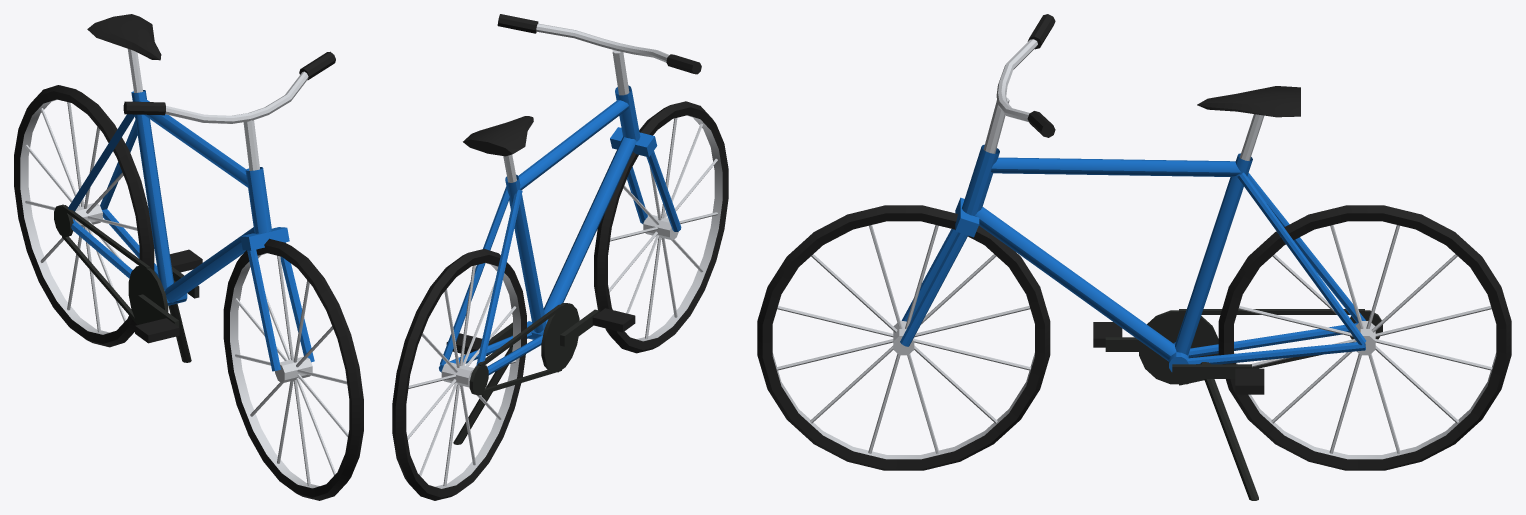
Rendered from bicicleta.glb.
3 renders of one model, left to right at view 1: azimuth 30°, elevation 25°; view 2: azimuth 150°, elevation 25°; view 3: azimuth 270°, elevation 25°, orthographic. The views are drawn at different scales.
Visible parts, largest first — view 1: pieza_cuadro, pieza_rueda_del, pieza_rueda_tra, bicicleta_resto, pieza_pata; view 2: pieza_cuadro, pieza_rueda_tra, pieza_rueda_del, bicicleta_resto, pieza_pata; view 3: pieza_cuadro, pieza_rueda_del, pieza_rueda_tra, bicicleta_resto, pieza_pata.
Boxes of the visible parts, x1,y1,x2,y2 form: pieza_cuadro: (68, 90, 314, 371); pieza_rueda_del: (223, 238, 363, 500); pieza_rueda_tra: (14, 85, 154, 347); bicicleta_resto: (54, 14, 335, 343); pieza_pata: (168, 280, 191, 362); pieza_cuadro: (439, 85, 681, 375); pieza_rueda_tra: (392, 249, 526, 500); pieza_rueda_del: (594, 101, 728, 353); bicicleta_resto: (446, 14, 701, 395); pieza_pata: (453, 334, 512, 444); pieza_cuadro: (900, 144, 1366, 371); pieza_rueda_del: (757, 205, 1050, 470); pieza_rueda_tra: (1218, 205, 1511, 470); bicicleta_resto: (983, 14, 1382, 394); pieza_pata: (1200, 362, 1258, 500).
Size of what is drawn, in the model's own units: 0.5996 by 0.9999 by 1.7.
